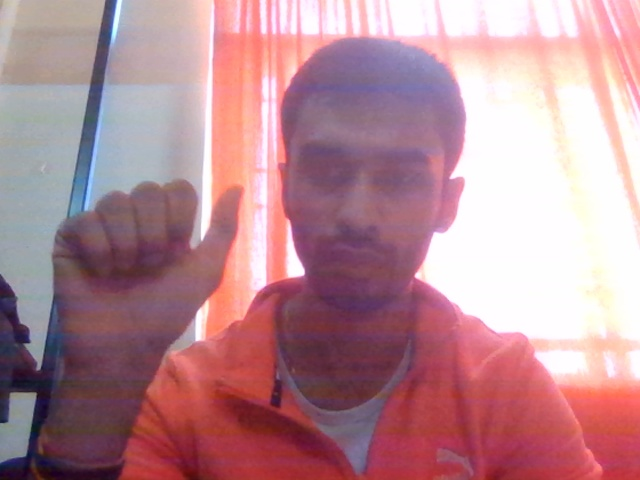A: (39, 154, 284, 363)
